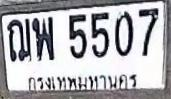0: (114, 10, 133, 55)
5: (90, 11, 108, 57), (68, 13, 86, 58)
7: (138, 7, 158, 56)
A12: (7, 18, 31, 61)
A30: (32, 16, 54, 60)
BKK: (21, 69, 141, 93)
